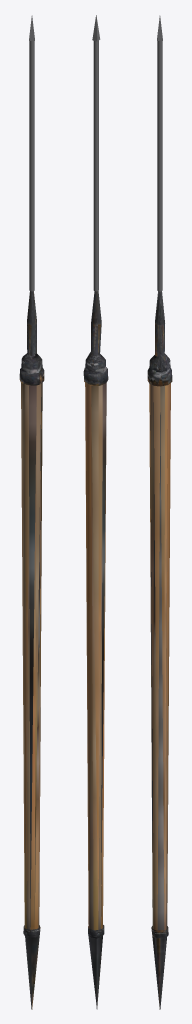
The model's file is weap_roman_pilum_2.glb.
3 renders of one model, left to right at view 1: azimuth 90°, elevation 25°; view 2: azimuth 150°, elevation 25°; view 3: azimuth 270°, elevation 25°, orthographic.
Visible parts, largest first — view 1: MeshyGear_weap_roman_pilum, Shank; view 2: MeshyGear_weap_roman_pilum, Shank; view 3: MeshyGear_weap_roman_pilum, Shank.
Part boxes in pixels (bbox=[...]): MeshyGear_weap_roman_pilum: bbox=[19, 291, 44, 1009]; Shank: bbox=[29, 37, 34, 291]; MeshyGear_weap_roman_pilum: bbox=[83, 291, 108, 1009]; Shank: bbox=[93, 37, 98, 291]; MeshyGear_weap_roman_pilum: bbox=[147, 291, 172, 1009]; Shank: bbox=[157, 37, 162, 291].
Bounding box in the file's own units: 0.0435 × 2 × 0.045.
2 materials, 1 textured.
